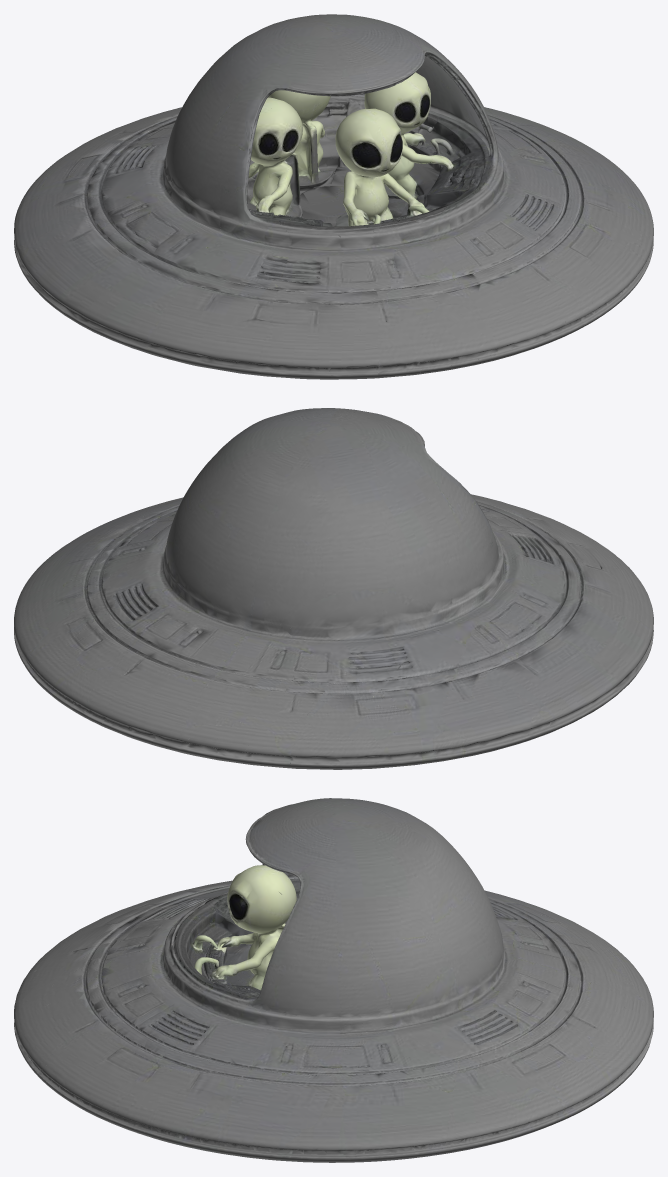
Rendered from ufo.glb.
3 views of the same model, one above another, from view 1: azimuth 30°, elevation 25°; view 2: azimuth 150°, elevation 25°; view 3: azimuth 270°, elevation 25° (orthographic).
Visible parts, largest first — view 1: otter; view 2: otter; view 3: otter.
Boxes of the visible parts, <box> form: otter: <box>14,14,653,379</box>; otter: <box>14,408,653,769</box>; otter: <box>14,798,653,1162</box>.
Size of the model in its own units: 1.9 by 0.9837 by 1.9.
1 material, 1 textured.
